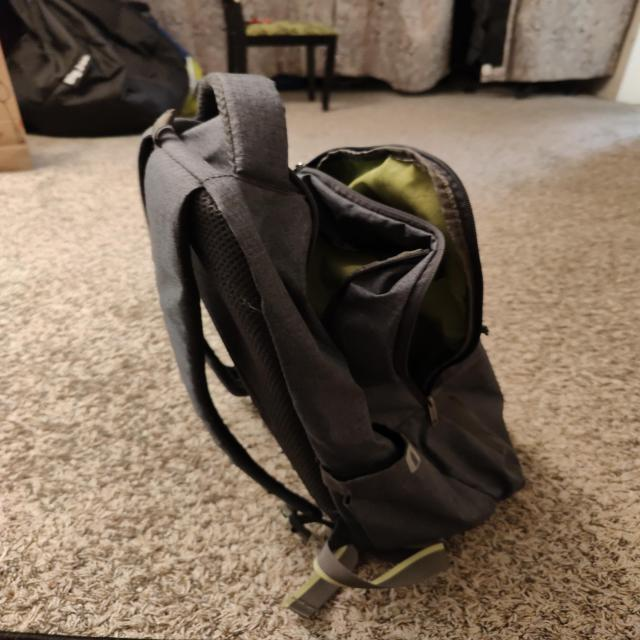bag: (151, 76, 537, 554)
